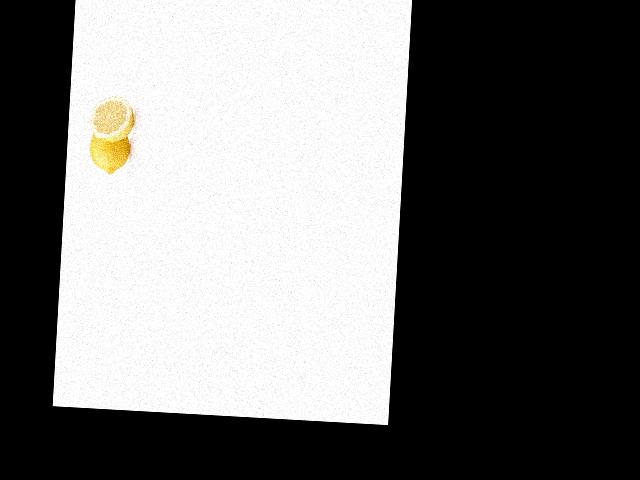lemon: (85, 126, 135, 177)
